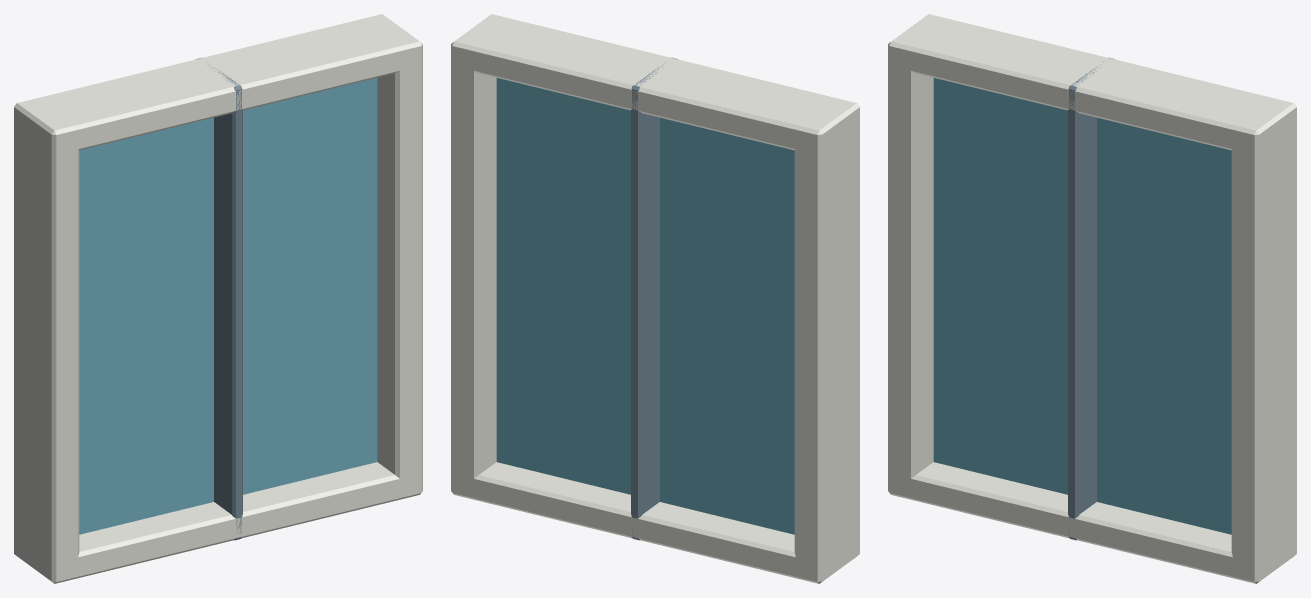
The model's file is architecture-city-window.lod0.glb.
3 renders of one model, left to right at view 1: azimuth 30°, elevation 25°; view 2: azimuth 150°, elevation 25°; view 3: azimuth 330°, elevation 25°, orthographic.
Visible parts, largest first — view 1: architecture-city-window__body; view 2: architecture-city-window__body; view 3: architecture-city-window__body.
Part boxes in pixels (x1,y1,x2,y2): architecture-city-window__body: (14,14,422,583); architecture-city-window__body: (451,14,859,583); architecture-city-window__body: (888,14,1296,583).
Bounding box in the file's own units: 1.2 × 1.4 × 0.23.
